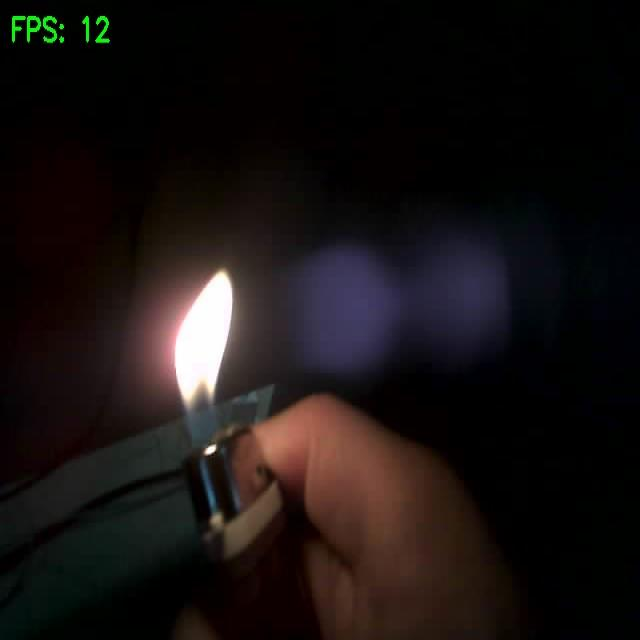fire: (175, 271, 231, 407)
